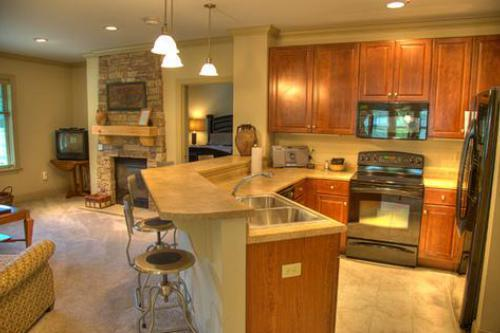Lavaplatos: (228, 164, 325, 239)
